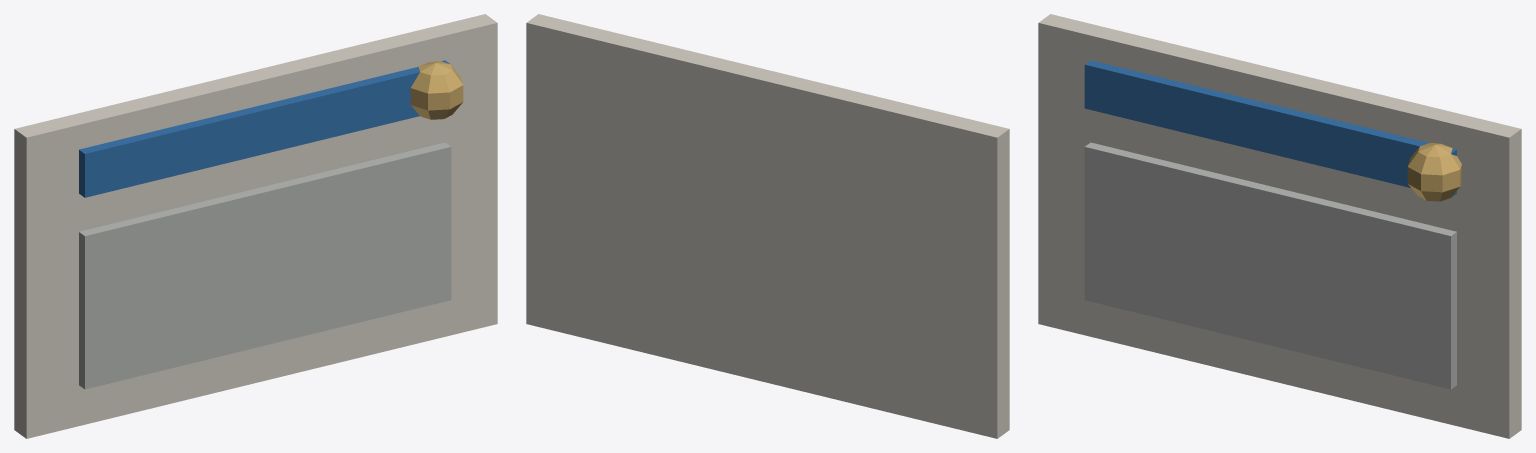
File: ticket-lucky.glb
3 views of the same model, side by side, from view 1: azimuth 30°, elevation 25°; view 2: azimuth 150°, elevation 25°; view 3: azimuth 330°, elevation 25° (orthographic).
Visible parts, largest first — view 1: ticket-lucky; view 2: ticket-lucky; view 3: ticket-lucky.
Part boxes in pixels (bbox=[...]): ticket-lucky: bbox=[14, 14, 497, 438]; ticket-lucky: bbox=[526, 14, 1009, 438]; ticket-lucky: bbox=[1038, 14, 1521, 438].
Bounding box in the file's own units: 0.9 × 0.55 × 0.1076.
